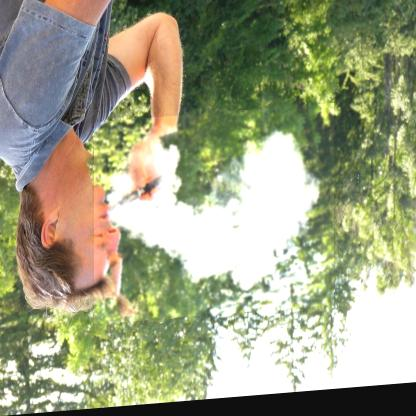smoke: (94, 109, 334, 326)
